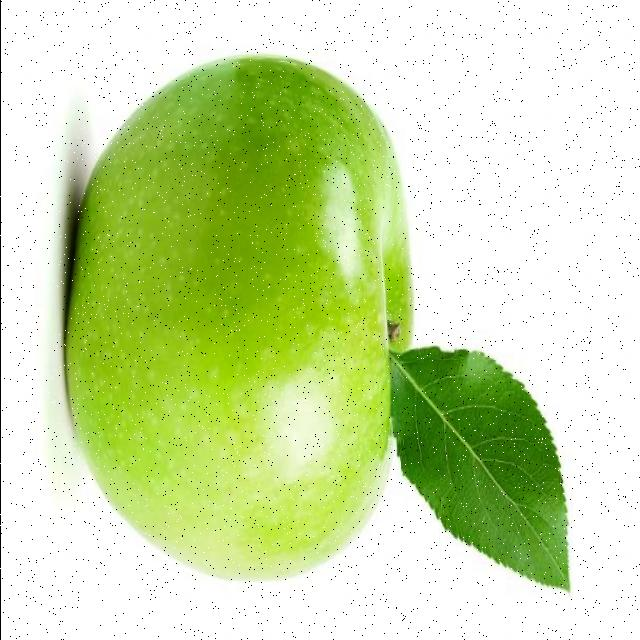HEALTHY: (52, 47, 456, 599)
